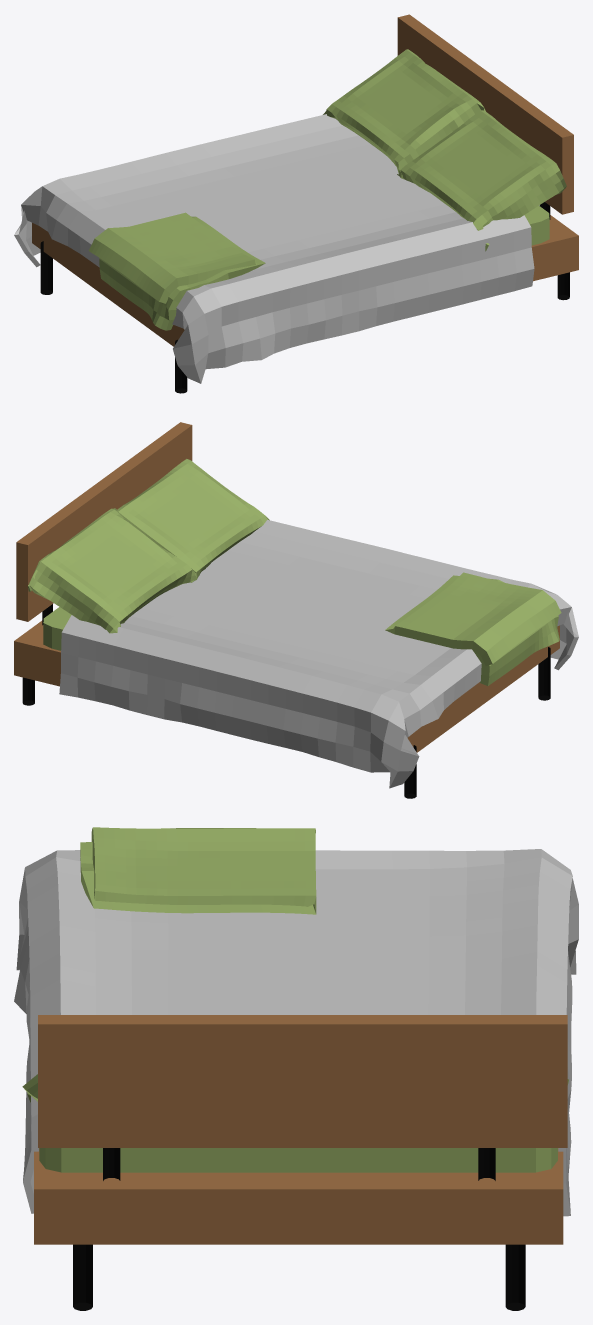
The model's file is bed.fbx.
3 views of the same model, one above another, from view 1: azimuth 30°, elevation 25°; view 2: azimuth 150°, elevation 25°; view 3: azimuth 270°, elevation 25° (orthographic). The views are drawn at different scales.
Parts seen in each view (by area): view 1: Plane.007; view 2: Plane.007; view 3: Plane.007.
Part boxes in pixels (<box>): Plane.007: <box>14,14,578,393</box>; Plane.007: <box>14,422,578,798</box>; Plane.007: <box>14,827,578,1310</box>.
Bounding box in the file's own units: 991 × 402 × 736.
